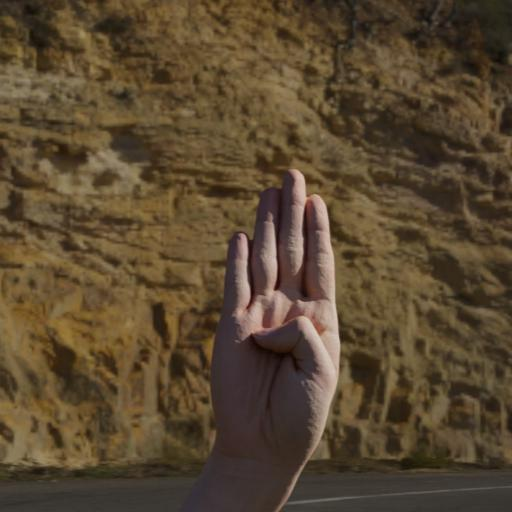B: (194, 162, 366, 448)
